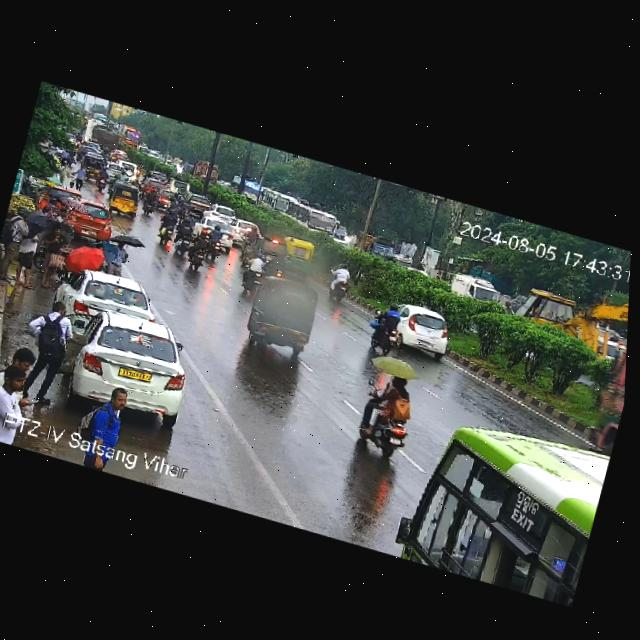bus: (399, 403, 611, 609), (284, 197, 342, 238), (256, 185, 295, 216), (114, 122, 143, 150), (230, 176, 261, 201)
car: (76, 307, 202, 429), (240, 270, 325, 367), (65, 265, 160, 321), (386, 302, 460, 365), (242, 232, 292, 277), (447, 268, 503, 308), (274, 233, 320, 276), (102, 176, 146, 220), (351, 232, 399, 266), (192, 213, 237, 245), (229, 215, 264, 248), (202, 200, 240, 223), (79, 153, 105, 181), (182, 190, 213, 212), (113, 157, 139, 183), (166, 176, 192, 198), (140, 174, 167, 195), (102, 160, 128, 181)
motorcycle: (346, 353, 427, 464), (365, 296, 405, 354), (183, 223, 216, 274), (240, 249, 269, 296), (154, 205, 181, 248), (327, 262, 353, 294), (138, 184, 160, 218), (92, 166, 110, 194)
person: (14, 296, 80, 401), (68, 377, 134, 474), (0, 355, 52, 451), (9, 216, 53, 296), (0, 200, 34, 287), (104, 236, 132, 279)
truck: (46, 192, 120, 247), (181, 157, 220, 186), (90, 122, 122, 151)
